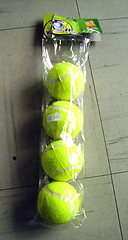tennis ball: (37, 182, 80, 224), (41, 140, 84, 181), (42, 100, 83, 139), (45, 62, 85, 99)
